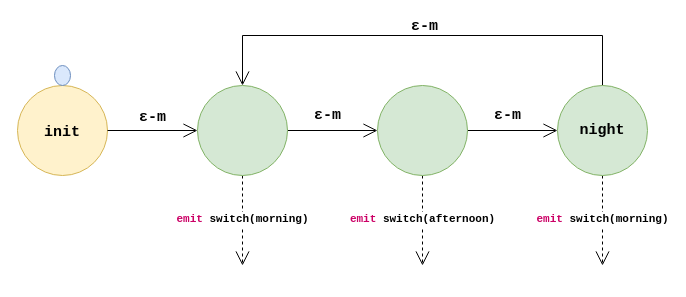
Image size: 686x297. Some labels were removed from this diagram. Each missing label, with the box of its shape:
afternoon: (376, 84, 468, 176)
morning: (196, 84, 288, 176)
